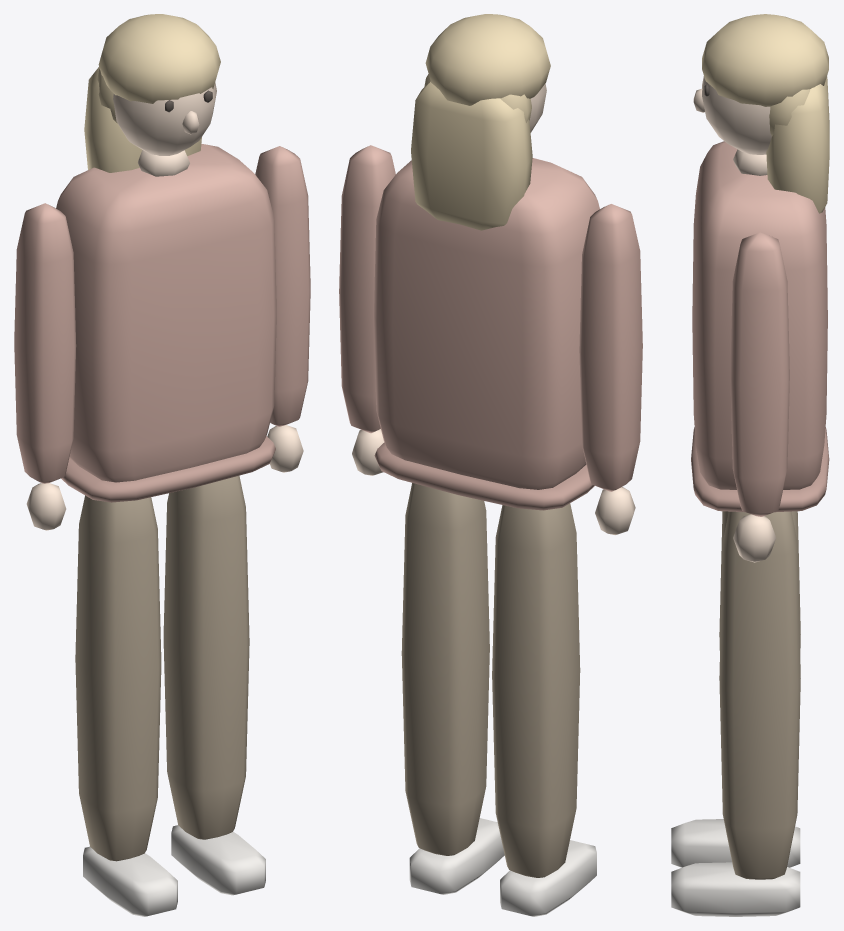
Rendered from passerby.glb.
The picture shows the model from 3 angles, left to right: view 1: azimuth 30°, elevation 25°; view 2: azimuth 150°, elevation 25°; view 3: azimuth 270°, elevation 25°; orthographic projection. The views are drawn at different scales.
Parts seen in each view (by area): view 1: Part0, Part4, Part5, Part1, Part2, Part3; view 2: Part0, Part4, Part5, Part1, Part2, Part3; view 3: Part5, Part0, Part1, Part3, Part4.
Part boxes in pixels (x1,y1,x2,y2): Part0: (56, 143, 276, 502); Part4: (75, 495, 177, 916); Part5: (163, 475, 265, 895); Part1: (84, 14, 220, 176); Part2: (14, 203, 76, 530); Part3: (255, 146, 310, 472); Part0: (374, 158, 599, 510); Part4: (492, 503, 596, 916); Part5: (401, 483, 504, 894); Part1: (411, 14, 550, 230); Part2: (579, 204, 642, 535); Part3: (339, 145, 395, 475); Part5: (671, 511, 800, 916); Part0: (691, 141, 829, 512); Part1: (693, 14, 829, 213); Part3: (730, 232, 789, 562); Part4: (671, 511, 800, 867).
Size of the model in its own units: 0.6057 by 1.76 by 0.2922.
